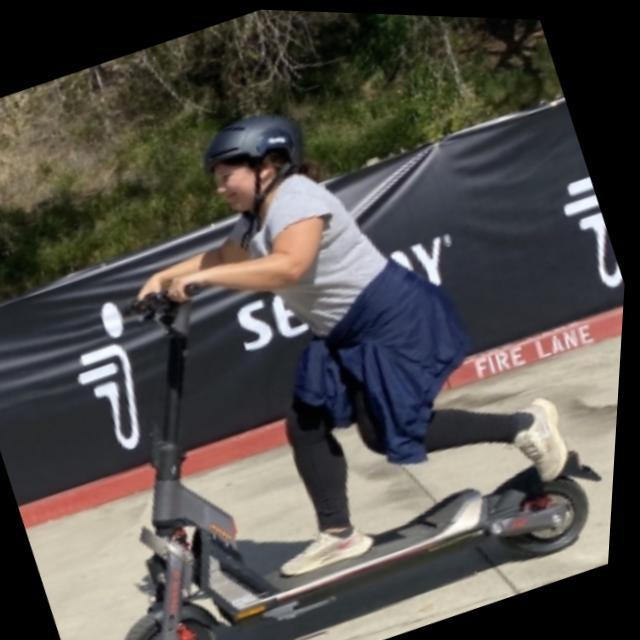Helmet: (206, 105, 310, 219)
